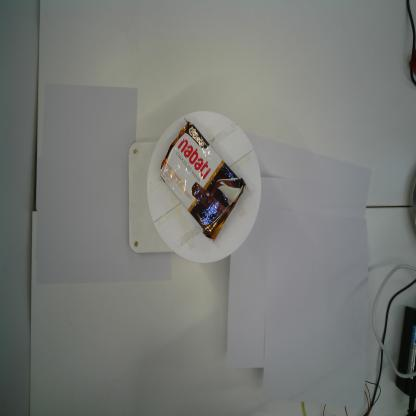Dessert: (158, 115, 248, 244)
